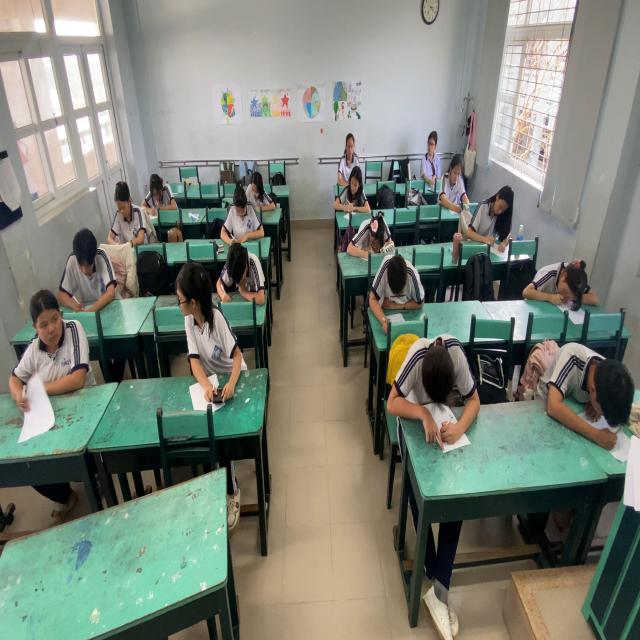cheating: (169, 250, 227, 416), (13, 281, 84, 413)
not_cheating: (546, 323, 633, 430), (391, 336, 468, 436), (58, 219, 120, 302), (527, 254, 598, 320), (363, 247, 428, 305), (106, 168, 150, 250), (214, 237, 266, 298), (237, 164, 282, 222), (472, 182, 517, 240), (330, 115, 369, 174), (352, 205, 396, 247), (416, 129, 449, 178), (227, 182, 256, 236), (441, 157, 472, 205), (144, 171, 173, 216), (338, 171, 375, 205)
